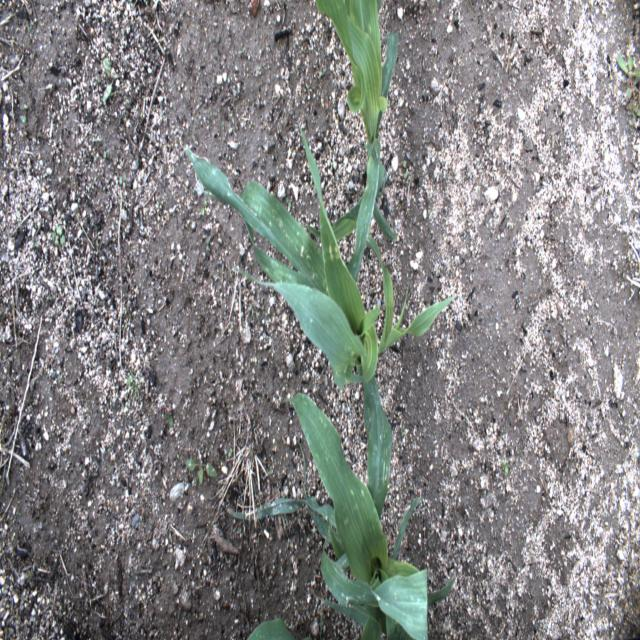crop: (185, 121, 457, 524), (229, 390, 457, 639), (305, 1, 398, 283), (248, 618, 296, 640)
weed: (616, 53, 639, 120), (185, 447, 218, 485), (102, 56, 123, 103), (126, 367, 142, 403), (50, 225, 66, 248), (19, 103, 29, 123), (164, 408, 173, 428), (200, 198, 208, 217), (319, 607, 323, 639), (284, 196, 292, 210), (502, 458, 509, 474), (403, 160, 408, 182), (227, 447, 234, 460), (126, 376, 134, 386)
